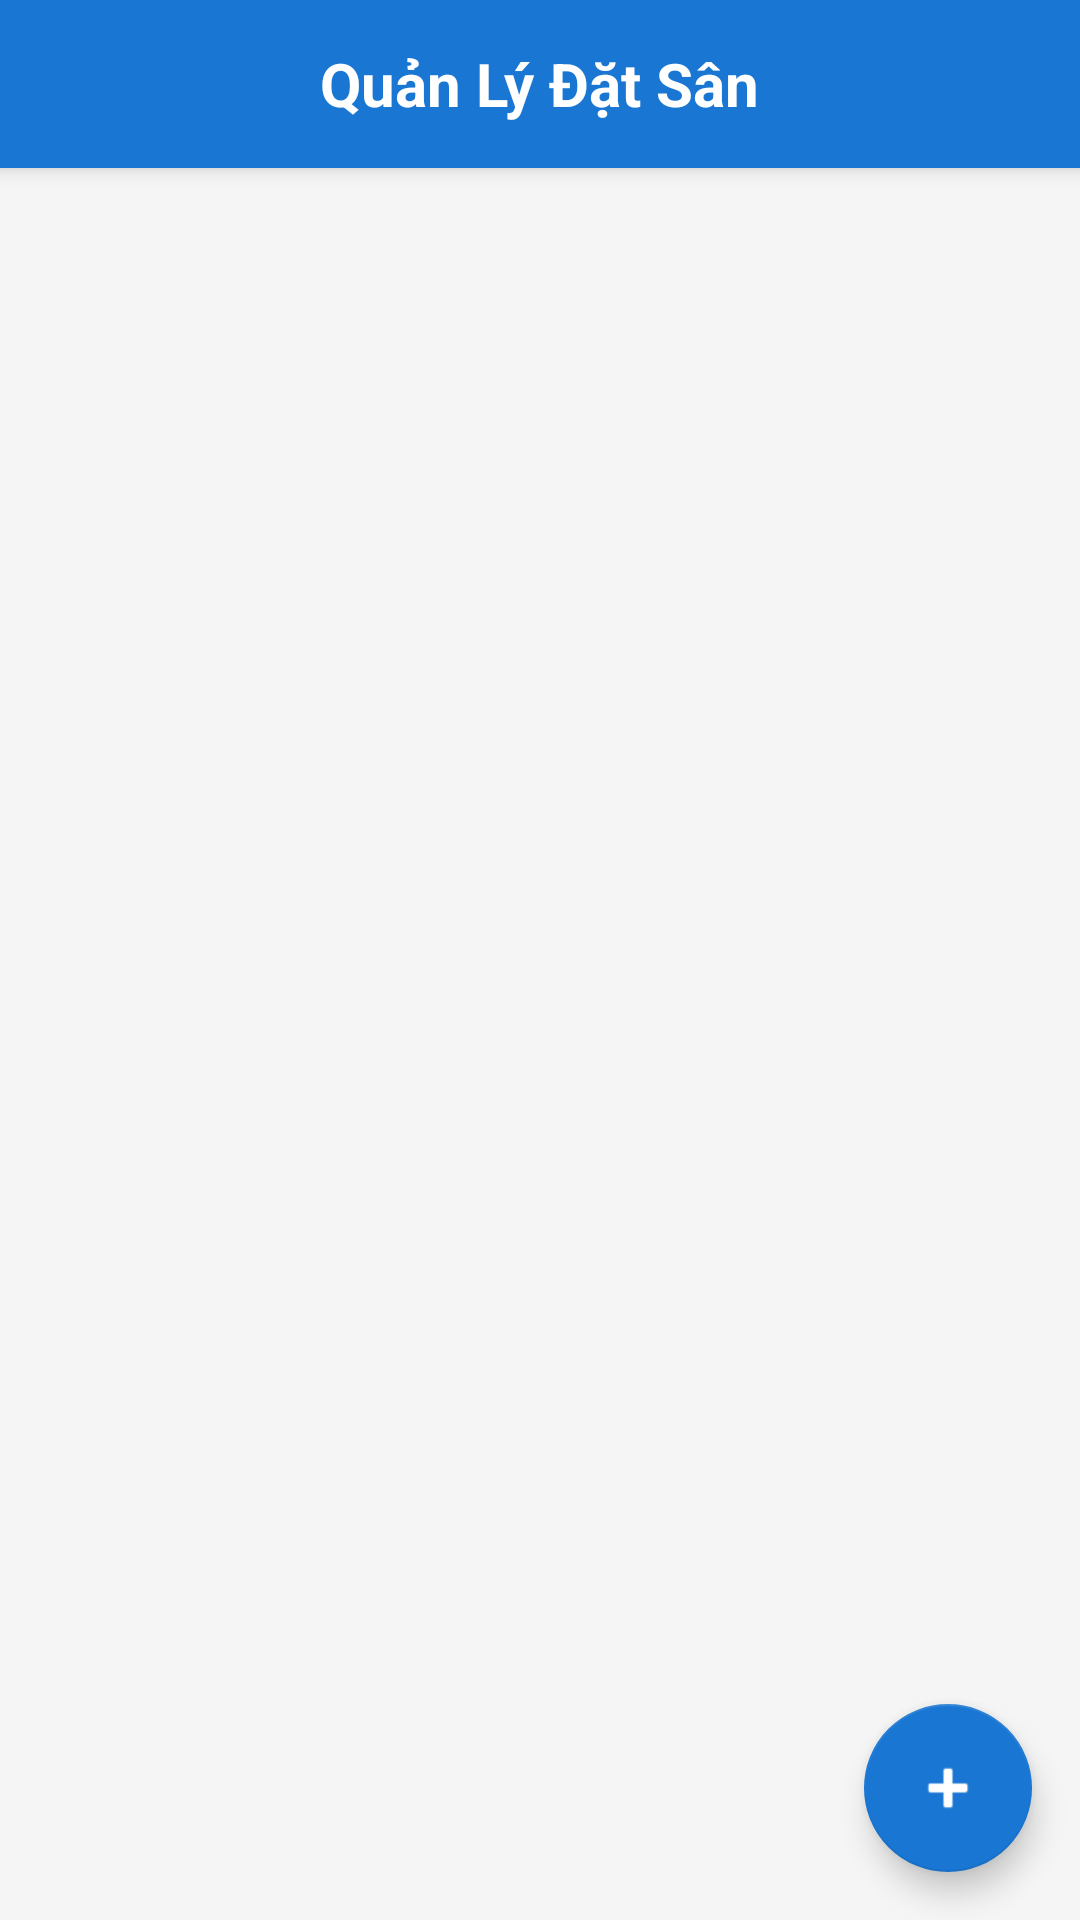

Screen size 1080*1920. Icon name, then its center in pixels as point (x, y):
Thêm đặt sân: point (948, 1788)
